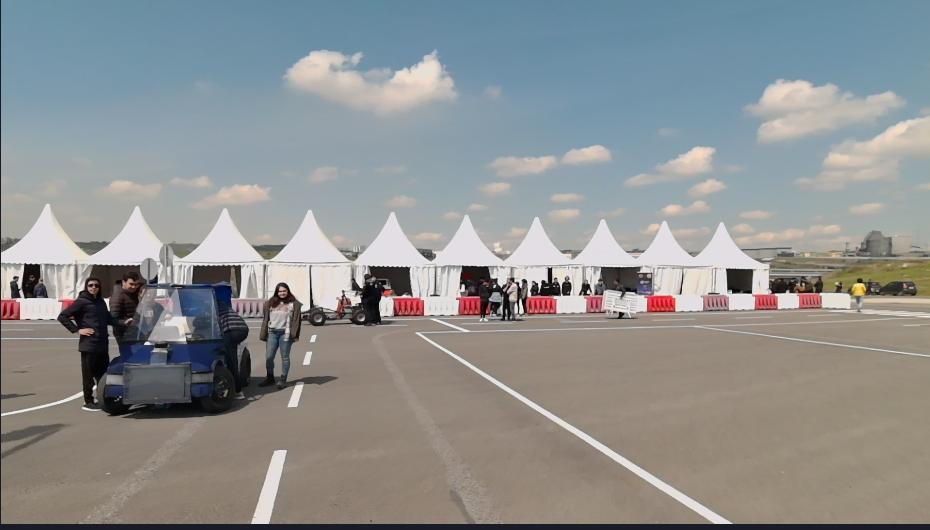nesne: (0, 312, 731, 527), (248, 310, 732, 523), (0, 316, 320, 528), (412, 316, 731, 523), (98, 280, 250, 414), (473, 313, 929, 357), (59, 279, 135, 411), (259, 283, 303, 387), (249, 446, 285, 526), (0, 390, 81, 419), (110, 269, 140, 347), (305, 289, 368, 324), (376, 295, 481, 316), (525, 296, 602, 315), (359, 272, 384, 321), (601, 291, 638, 318), (19, 298, 60, 320), (501, 275, 521, 320), (848, 274, 866, 312), (424, 296, 458, 316), (393, 296, 424, 317), (230, 298, 262, 317), (477, 279, 491, 321), (488, 279, 503, 318), (285, 379, 307, 405), (881, 279, 915, 295), (820, 291, 850, 308), (556, 297, 585, 314), (674, 294, 703, 311), (527, 296, 554, 314), (648, 295, 674, 311), (702, 293, 728, 309), (864, 273, 882, 295), (729, 293, 752, 310), (754, 294, 780, 309), (0, 299, 19, 319), (0, 335, 76, 340), (456, 296, 478, 313), (518, 276, 529, 309), (777, 292, 798, 307), (800, 293, 822, 307), (7, 275, 22, 295), (34, 277, 48, 298), (378, 296, 392, 316), (22, 275, 35, 296), (771, 276, 787, 293), (586, 297, 602, 313), (593, 277, 606, 295), (800, 274, 813, 291), (579, 279, 593, 294), (788, 275, 801, 291), (637, 293, 648, 309), (551, 274, 560, 293), (562, 274, 571, 293), (528, 278, 538, 295), (611, 280, 628, 290), (540, 278, 550, 293), (834, 277, 844, 292), (303, 349, 313, 364), (814, 274, 822, 292), (349, 276, 360, 289), (309, 332, 317, 342)
